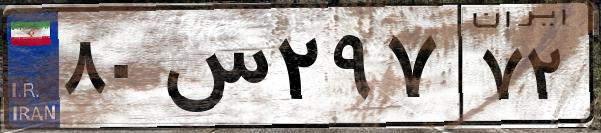0: (110, 28, 158, 98)
2: (270, 28, 330, 110), (525, 38, 570, 115)
7: (385, 28, 445, 110), (475, 38, 525, 113)
8: (57, 26, 110, 100)
9: (330, 28, 385, 110)
س: (158, 20, 270, 120)
